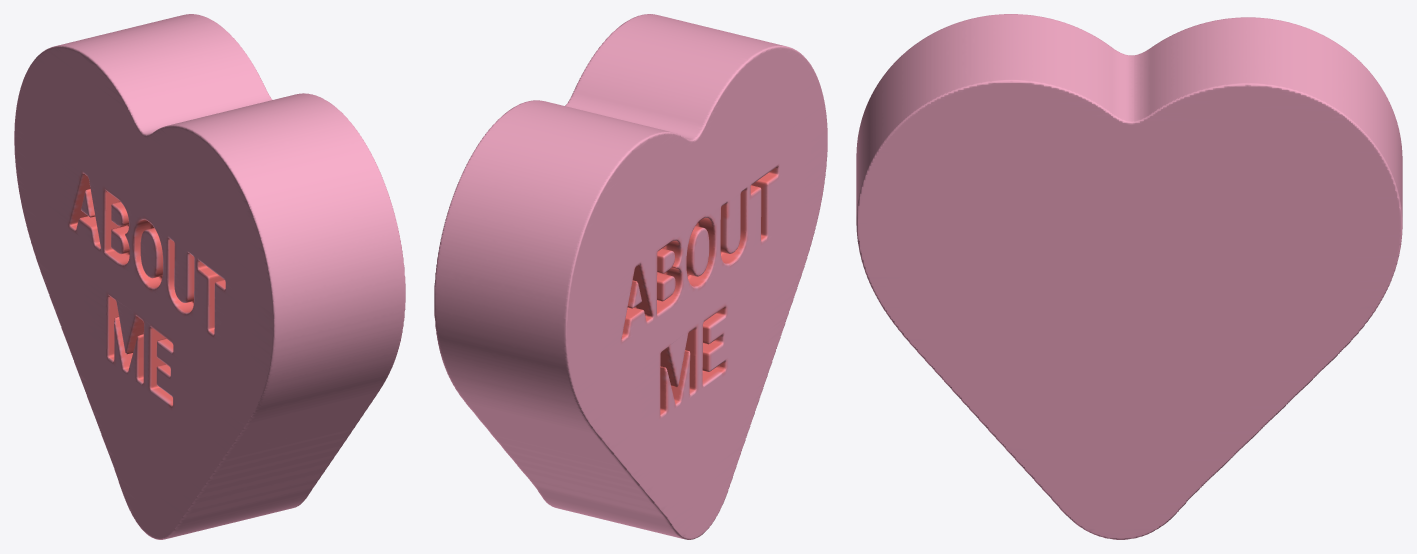
File: aboutMeHeart_compressed.glb
The picture shows the model from 3 angles, left to right: view 1: azimuth 30°, elevation 25°; view 2: azimuth 150°, elevation 25°; view 3: azimuth 270°, elevation 25°; orthographic projection. The views are drawn at different scales.
Bounding box in the file's own units: 66.41 × 210 × 227.
1 material, 1 textured.
